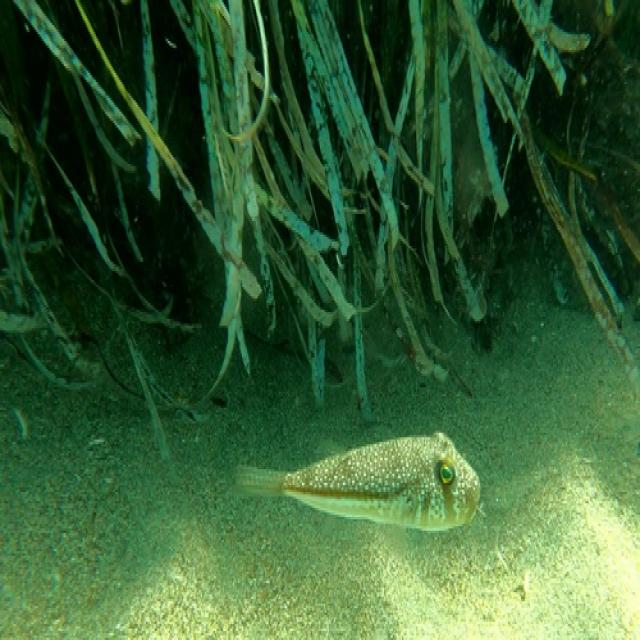Balik: (237, 433, 479, 530)
